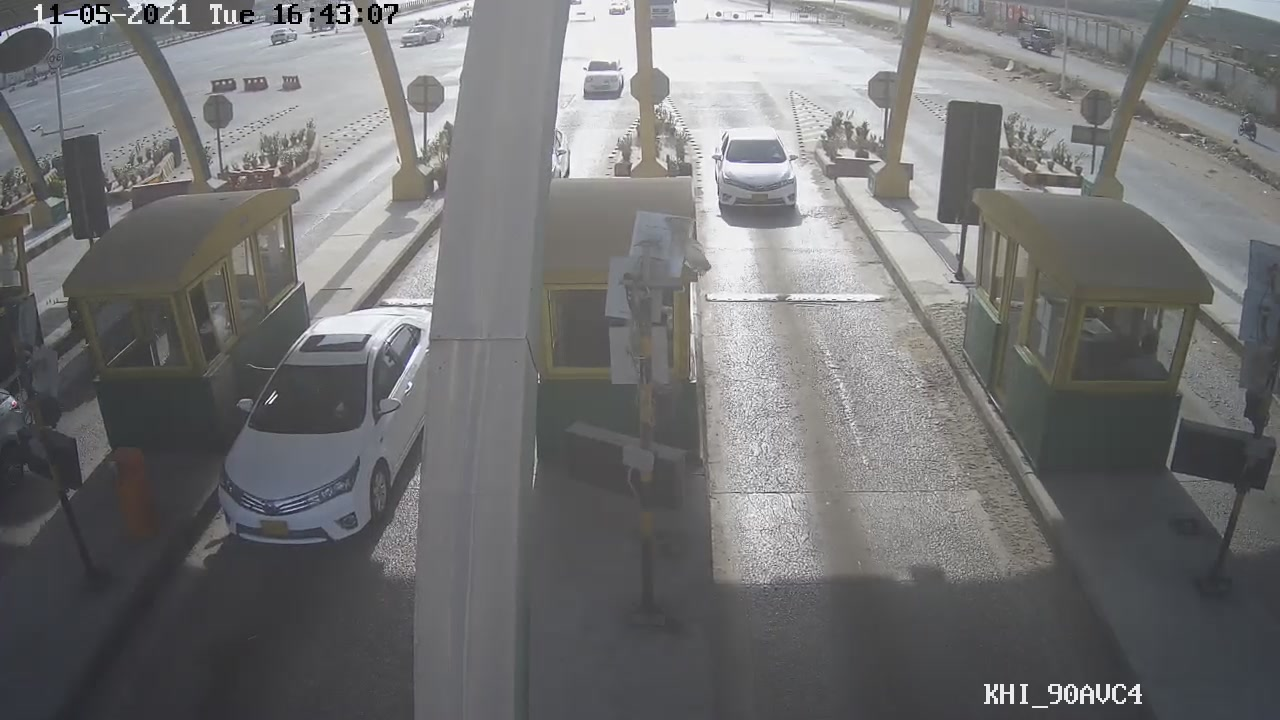F1: (710, 122, 806, 220)
